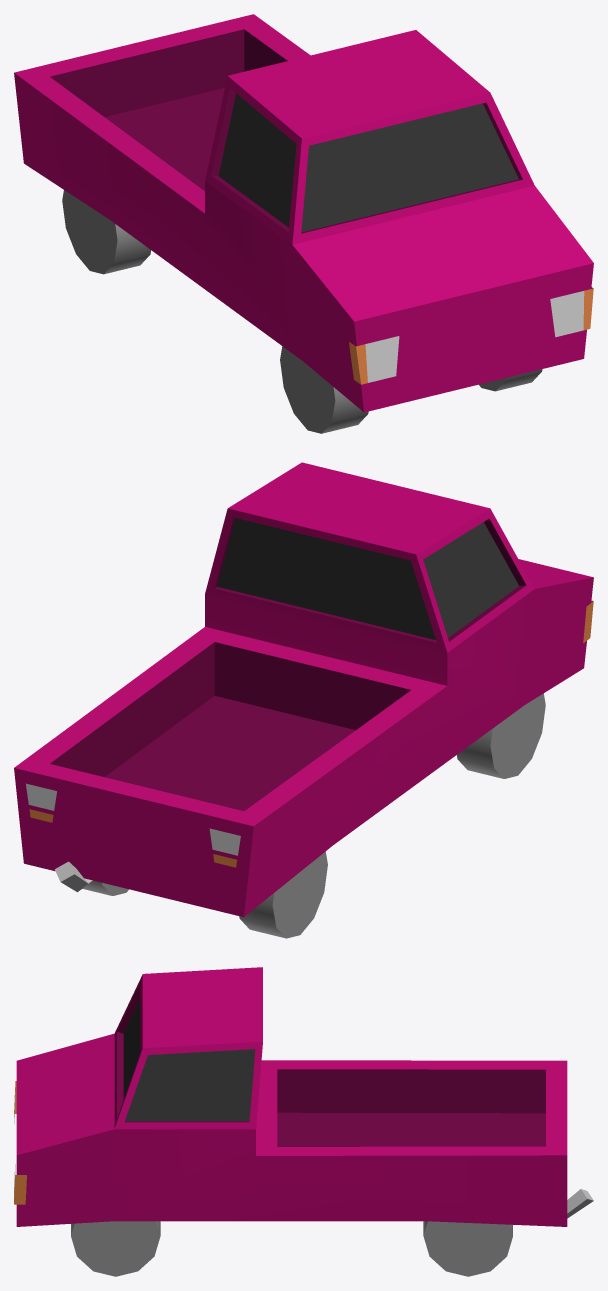
File: pickup_06.fbx
The picture shows the model from 3 angles, top to bottom: view 1: azimuth 30°, elevation 25°; view 2: azimuth 150°, elevation 25°; view 3: azimuth 270°, elevation 25°; orthographic projection. The views are drawn at different scales.
Visible parts, largest first — view 1: pickup_06; view 2: pickup_06; view 3: pickup_06.
Boxes of the visible parts, x1,y1,x2,y2 form: pickup_06: [14, 14, 593, 433]; pickup_06: [14, 462, 593, 938]; pickup_06: [14, 967, 593, 1276].
Size of the model in its own units: 1.6 by 1.8 by 4.1.
